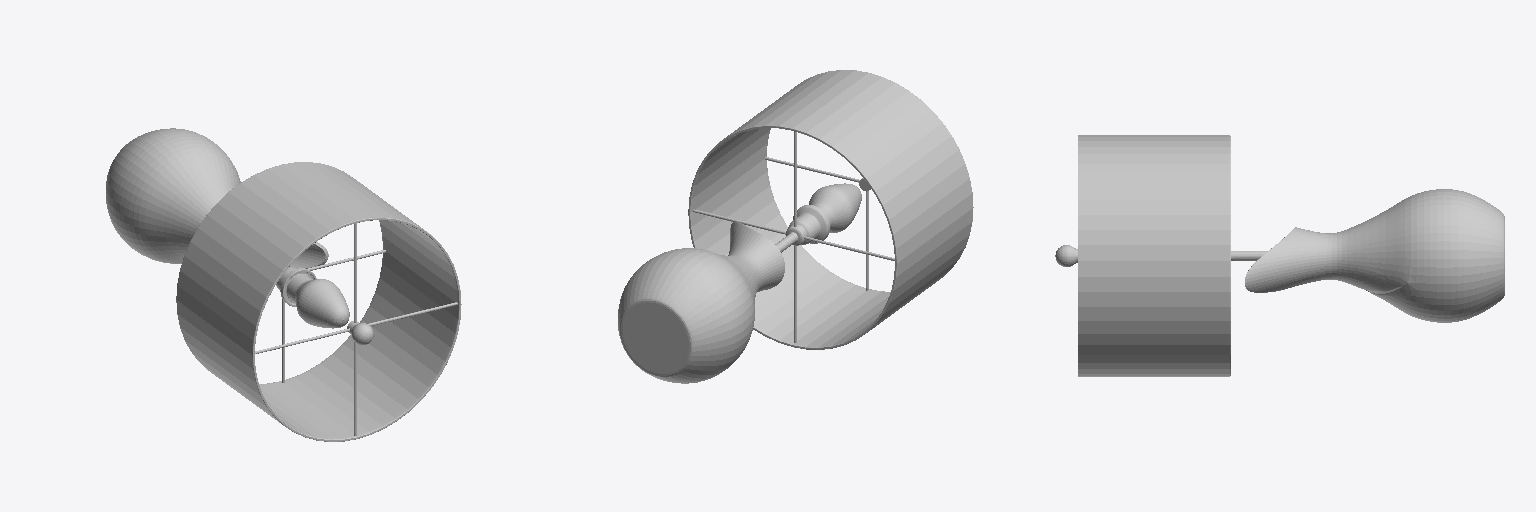
The model's file is lamp.obj.
3 views of the same model, side by side, from view 1: azimuth 30°, elevation 25°; view 2: azimuth 150°, elevation 25°; view 3: azimuth 270°, elevation 25° (orthographic).
Parts seen in each view (by area): view 1: 10321_Table_Lamp; view 2: 10321_Table_Lamp; view 3: 10321_Table_Lamp.
Part boxes in pixels (left/top/right/bottom): 10321_Table_Lamp: left=106, top=128, right=461, bottom=441; 10321_Table_Lamp: left=618, top=70, right=973, bottom=383; 10321_Table_Lamp: left=1055, top=135, right=1504, bottom=376.
Size of the model in its own units: 41.19 by 41.19 by 76.67.